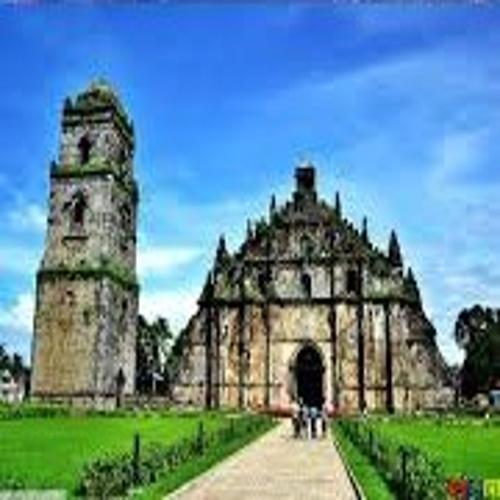Paoay Church: (25, 54, 466, 419)
